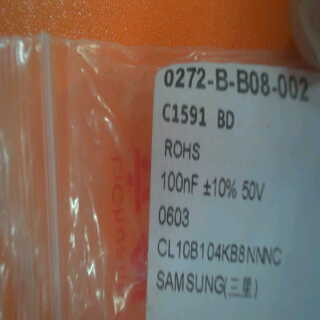100nF: (159, 165, 201, 199)
